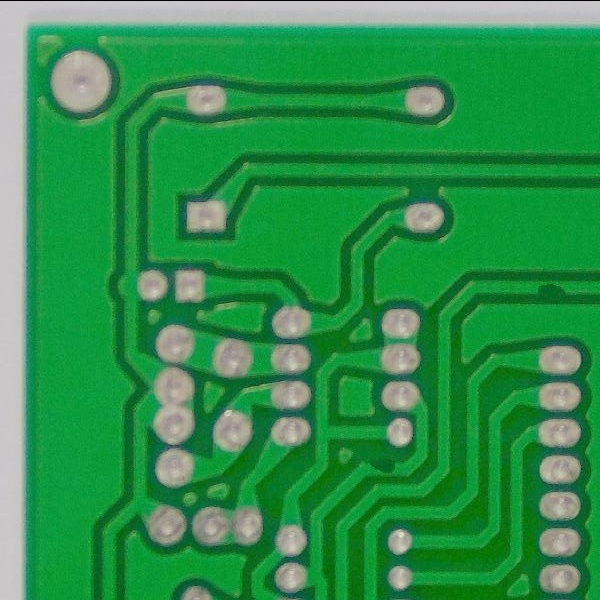mouse_bite: (529, 271, 579, 302), (364, 448, 403, 483)
